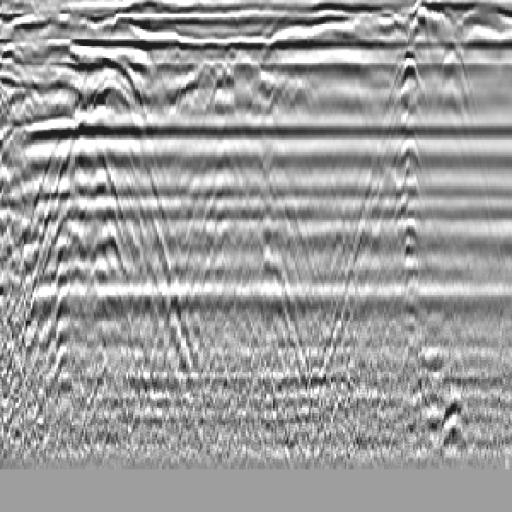metalic: (390, 29, 438, 362)
non-metallic: (425, 35, 488, 125)
